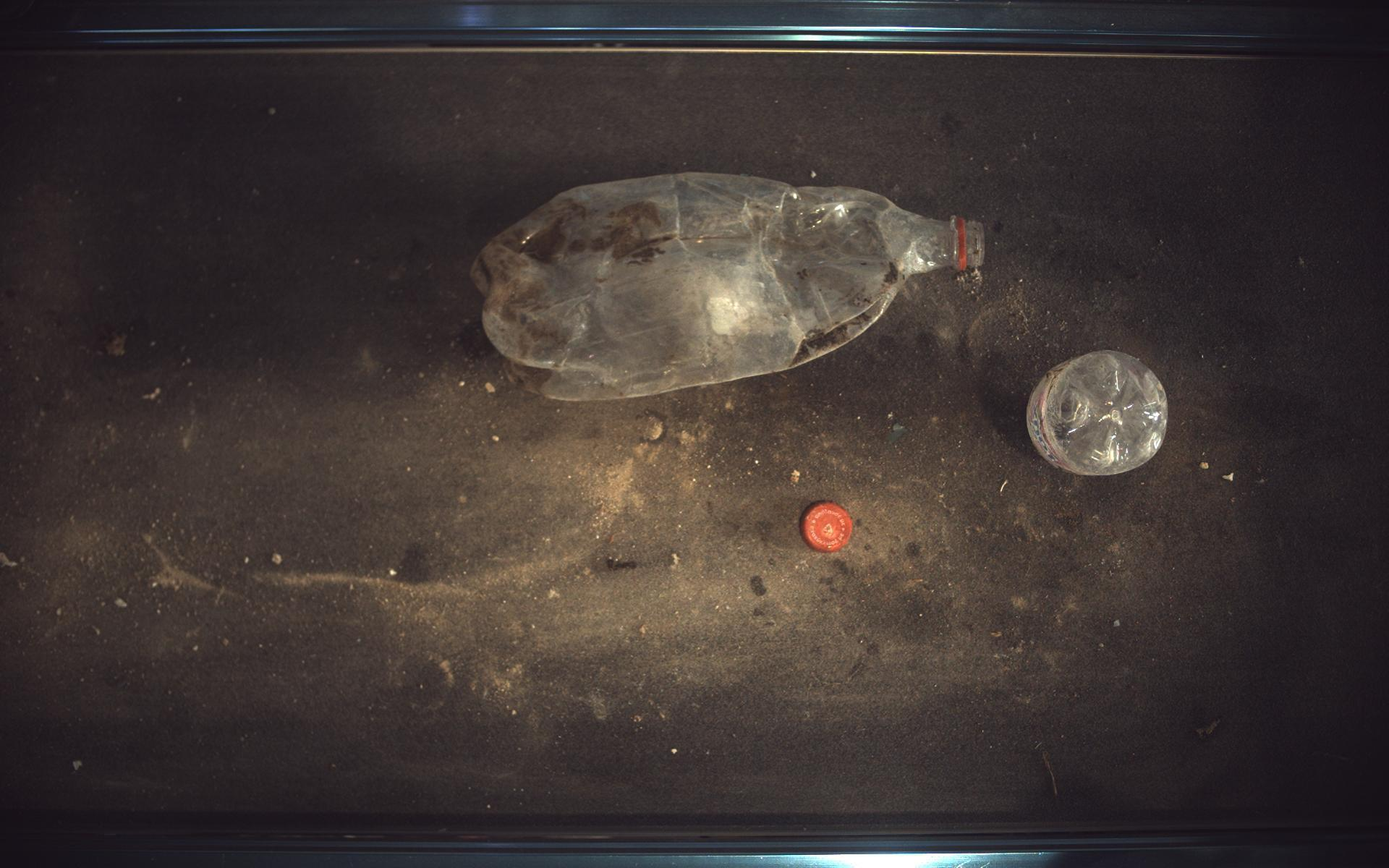general_w: (472, 172, 987, 401), (1029, 350, 1171, 475), (803, 503, 854, 553)
